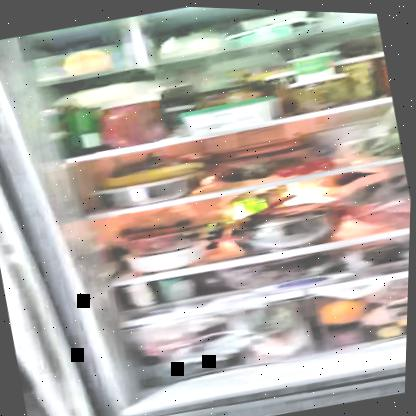banana: (102, 156, 207, 191)
cheese: (181, 90, 285, 135)
cream_cheese: (229, 10, 318, 44)
lemon: (375, 309, 408, 338)
lettuce: (354, 115, 402, 159)
mineral_water: (58, 96, 107, 156)
orange: (321, 291, 373, 325)
tomato: (273, 151, 337, 178)
tomato_paste: (99, 89, 172, 150)
yoghurt: (286, 45, 342, 81)
